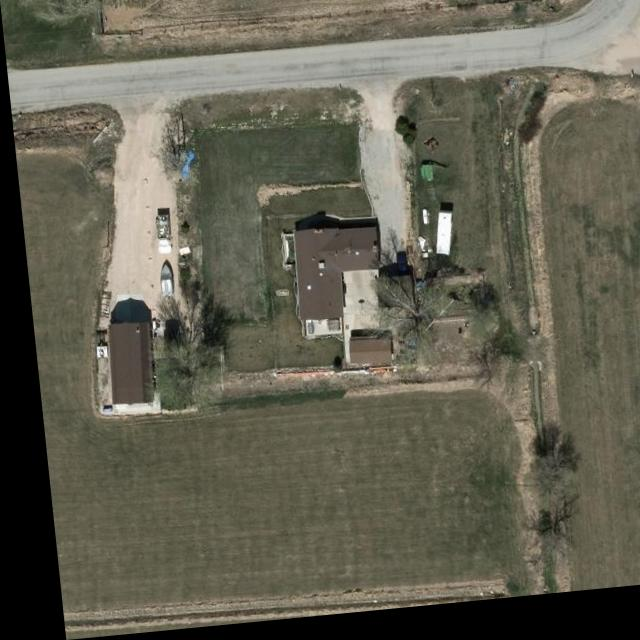vehicle: (150, 219, 168, 256), (388, 259, 402, 283)
